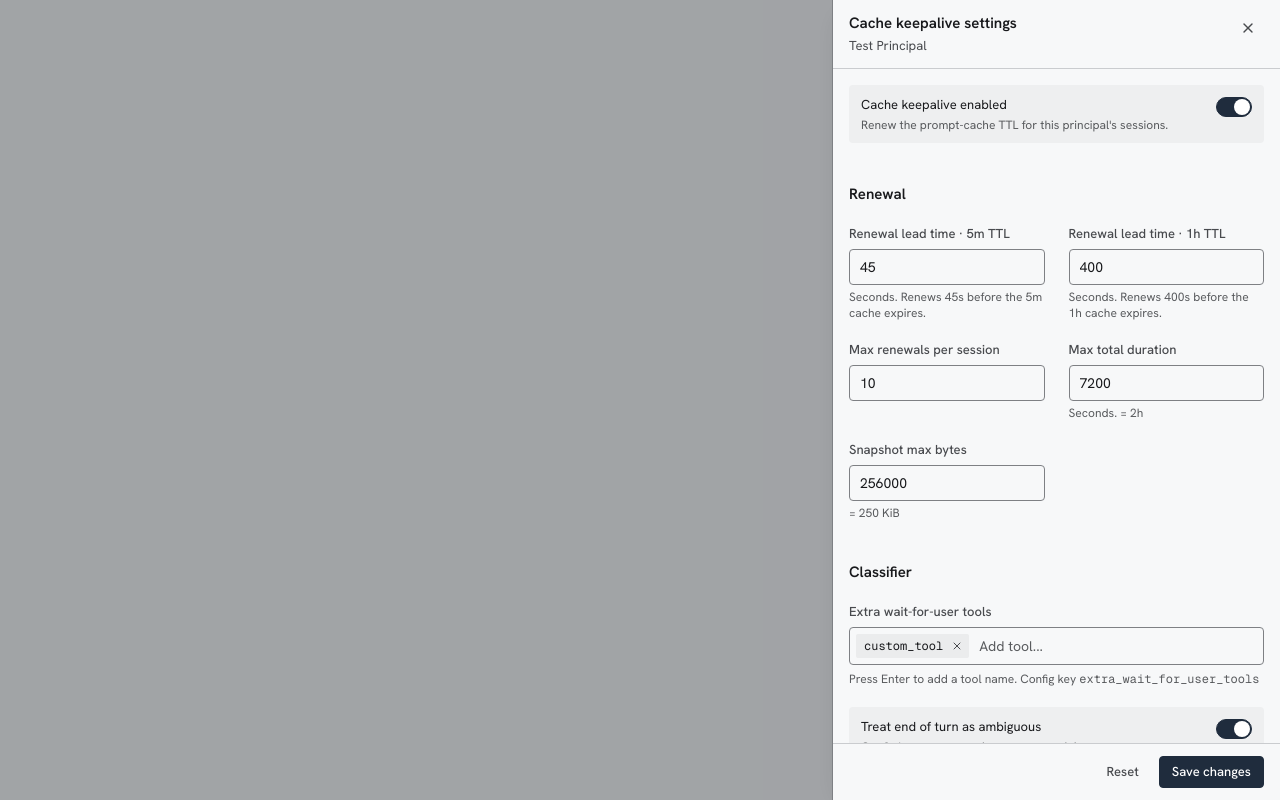
Test case: CacheKeepaliveSettingsDrawer › resets fields on reset click
The image size is (1280, 800).
Replace the text in the number field labelled "Renewal lead time · 5m TTL" with "999" at (947, 267), box [849,249,1044,285]
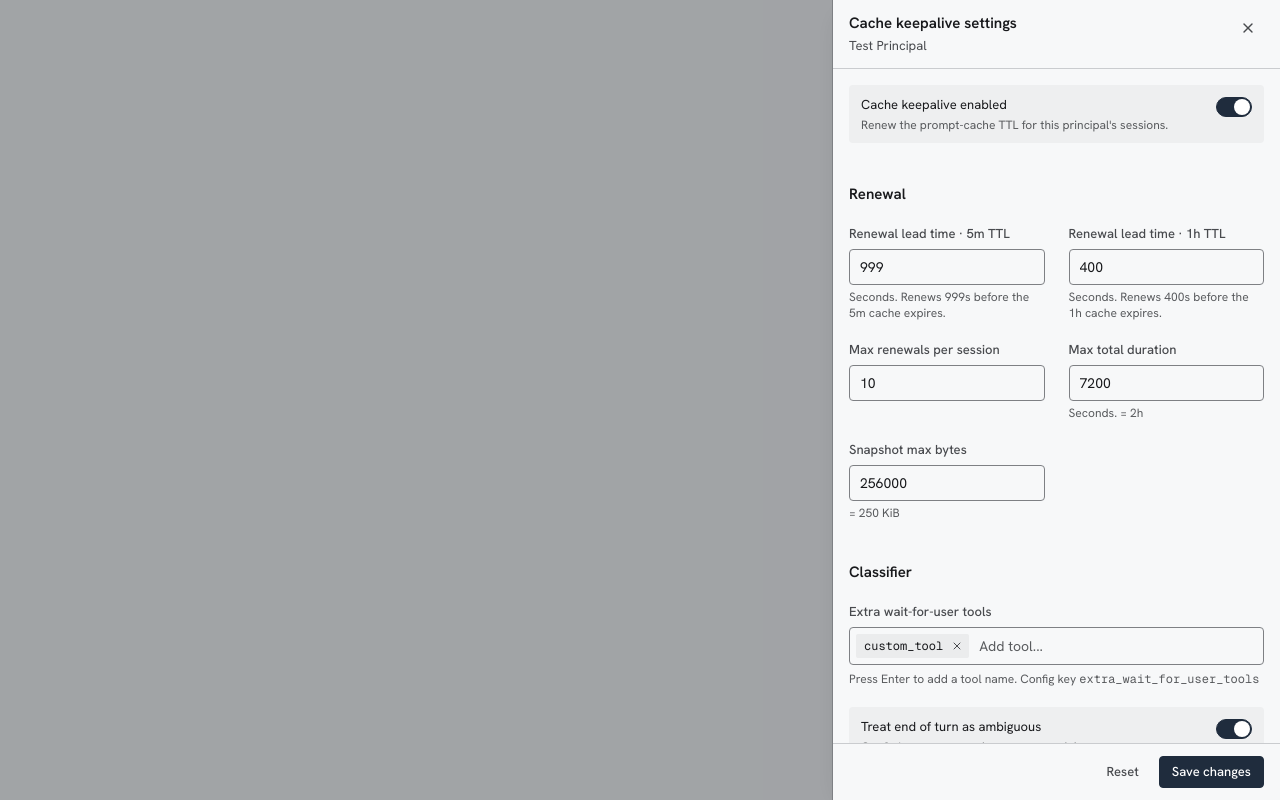
Click the button "Reset" at (1123, 772), box [1094,756,1151,788]
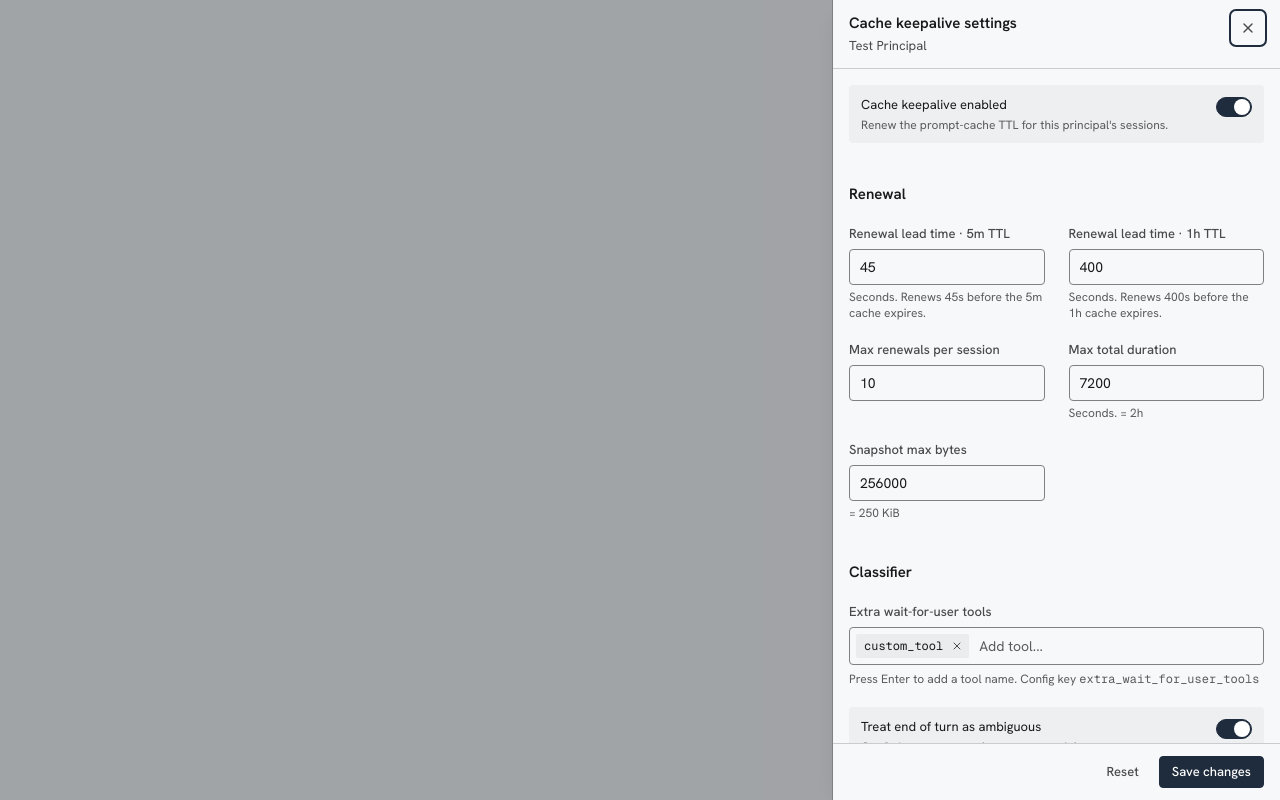
Check: the number field labelled "Renewal lead time · 5m TTL" holds "45", box [849,249,1044,285]
